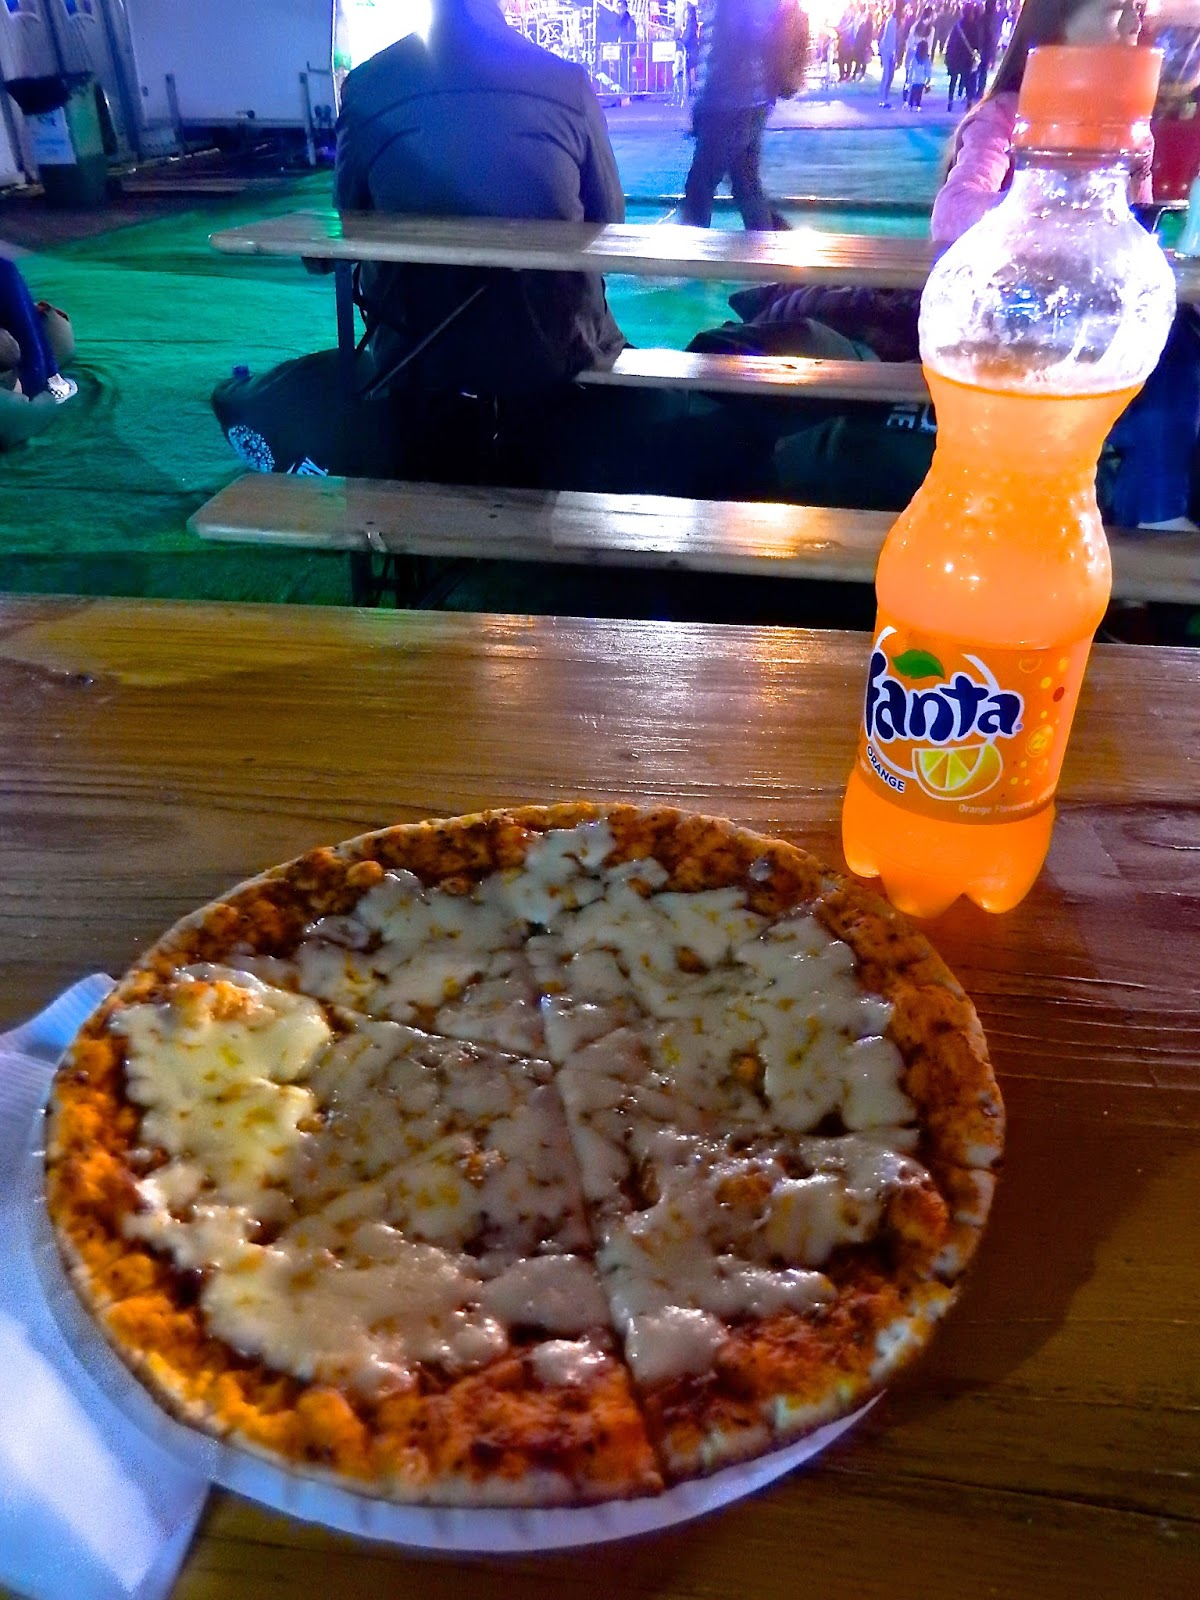fanta: (847, 50, 1158, 889)
